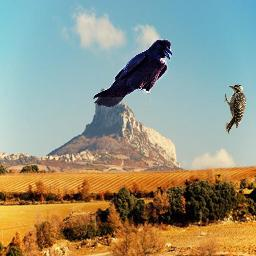Crow: (93, 39, 172, 107)
Woodpecker: (223, 83, 246, 135)
